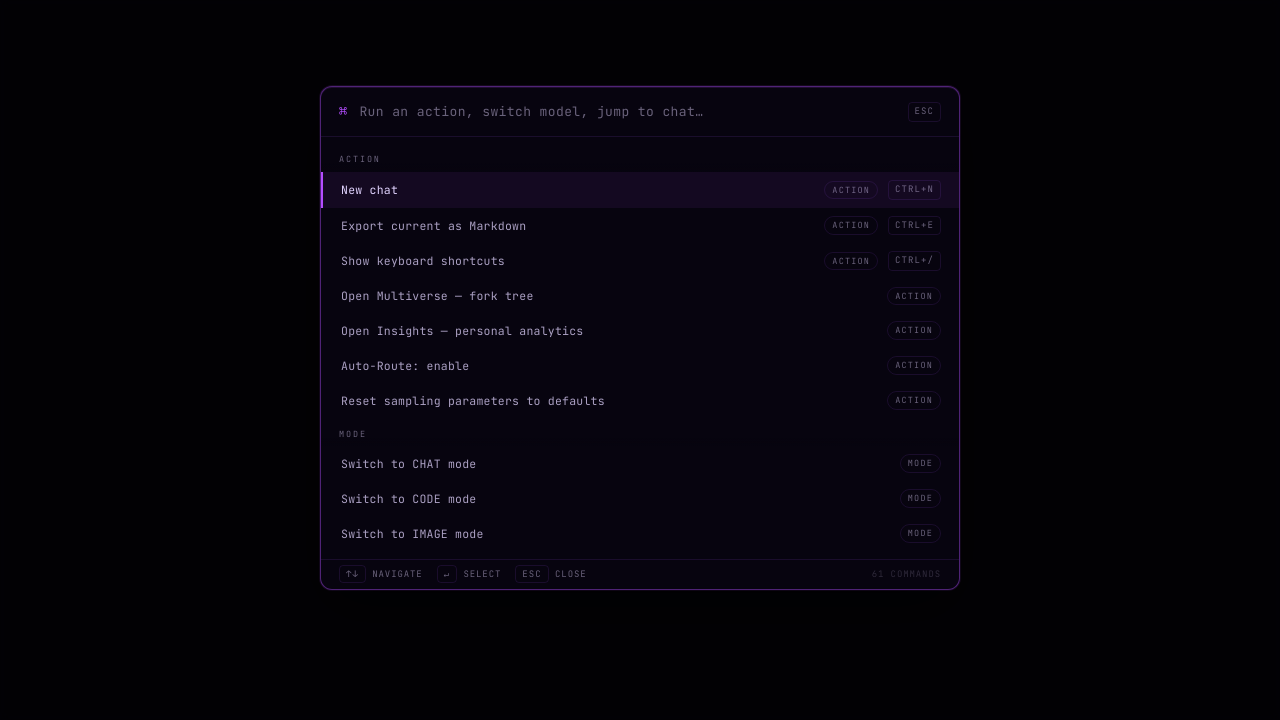
Test: CommandPalette › shows "No matches" for a query with no results
In the field with placeholder "Run an action, switch model, jump to chat…": (628, 112) 359,102 -> 898,122, type "zzzznonexistent"
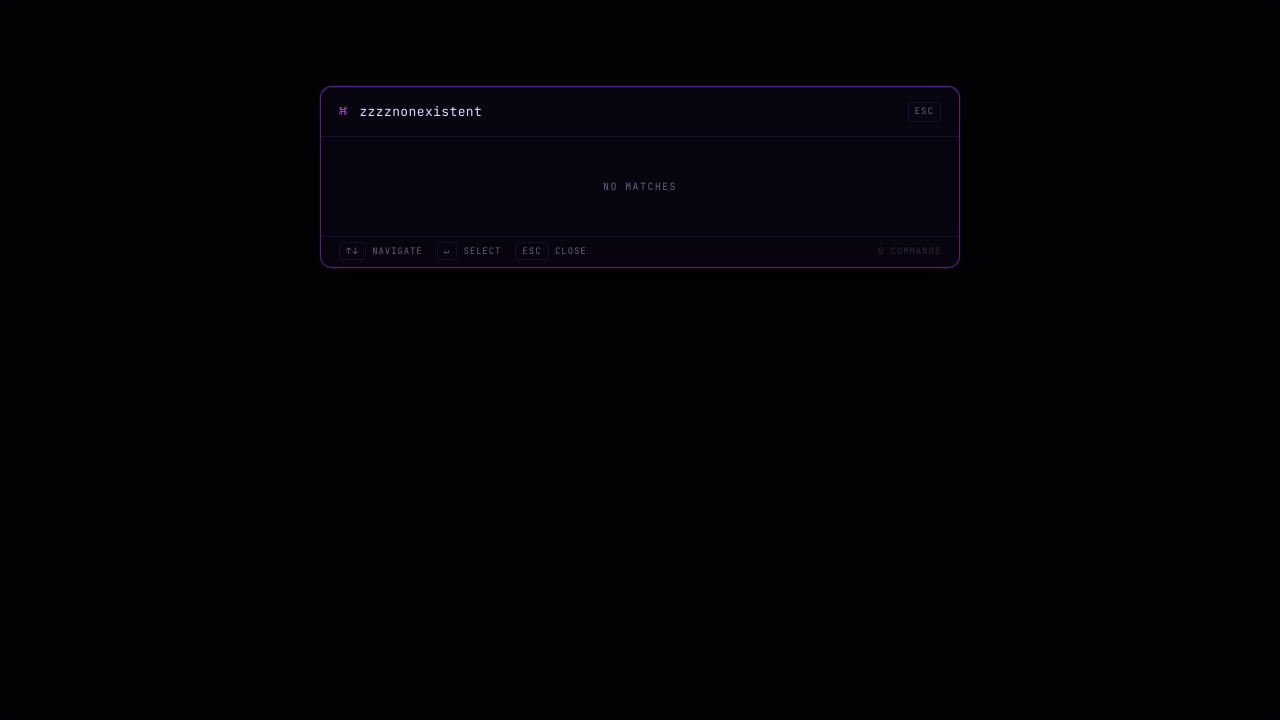
Now the text "No matches" is shown, box 603,180 -> 677,193
